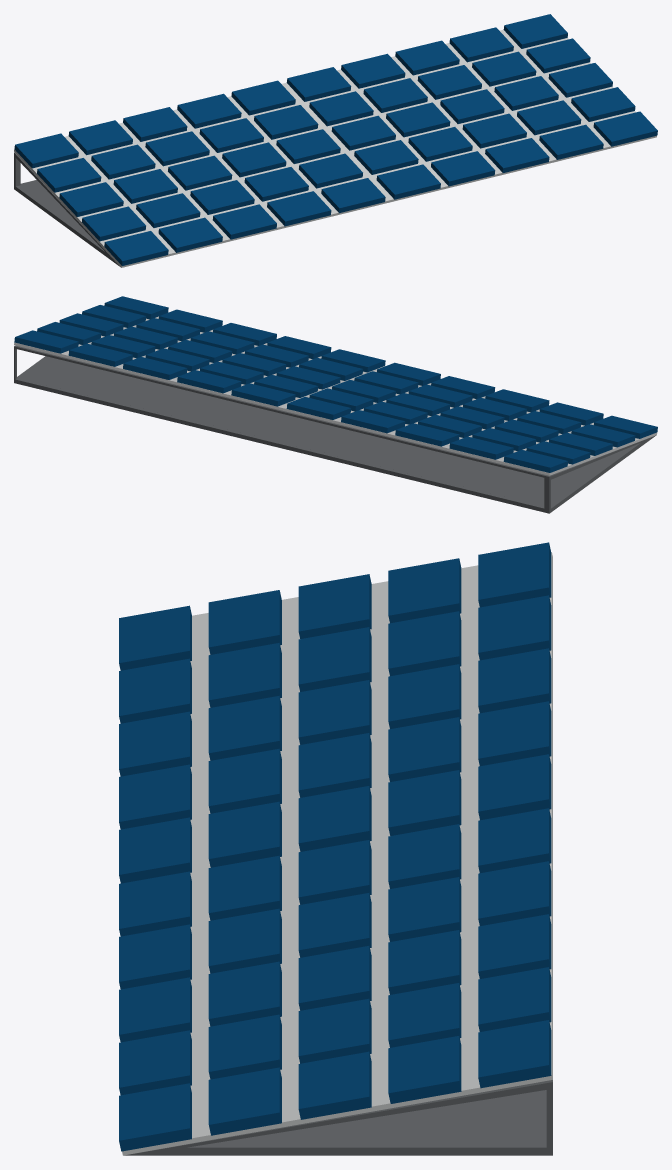
File: Solar Panel 5x10 small.glb
3 views of the same model, one above another, from view 1: azimuth 30°, elevation 25°; view 2: azimuth 150°, elevation 25°; view 3: azimuth 270°, elevation 25° (orthographic). The views are drawn at different scales.
Visible parts, largest first — view 1: Mesh_Mesh_head_geo.001_lambert2SG.001; view 2: Mesh_Mesh_head_geo.001_lambert2SG.001; view 3: Mesh_Mesh_head_geo.001_lambert2SG.001.
Boxes of the visible parts, box(x1,y1,x2,y2) form: Mesh_Mesh_head_geo.001_lambert2SG.001: box(14, 14, 657, 267); Mesh_Mesh_head_geo.001_lambert2SG.001: box(14, 296, 657, 513); Mesh_Mesh_head_geo.001_lambert2SG.001: box(119, 542, 552, 1155).
Size of the model in its own units: 305 by 24.65 by 107.
